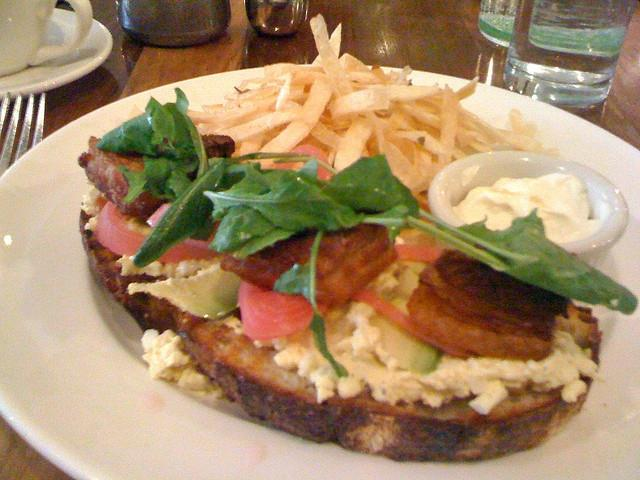lettuce: (408, 208, 638, 314), (133, 152, 309, 268), (202, 161, 364, 254), (96, 96, 198, 160), (324, 154, 420, 219), (166, 156, 200, 200), (274, 264, 310, 302)
